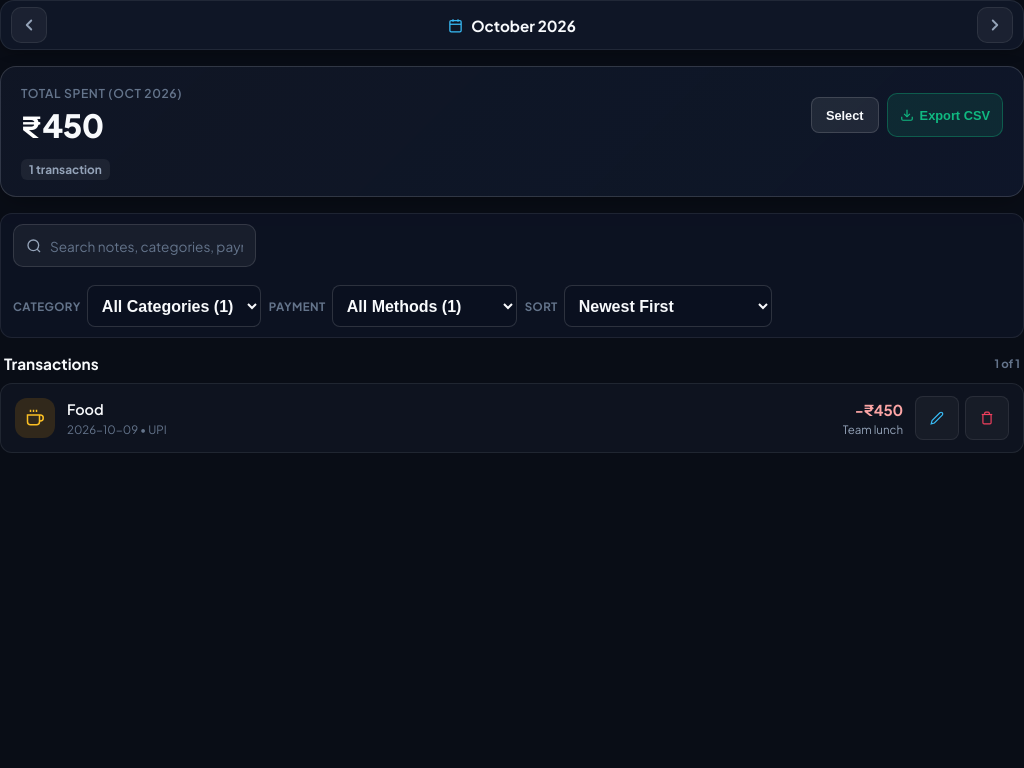
Test case: ExpensesView delete confirmation behavior › displays error message and preserves modal if deletion fails
This screenshot has width=1024, height=768.
Note: Open modal
Step 1. Click the button with class "delete" → coordinates (987, 418), box [965,396,1009,440]
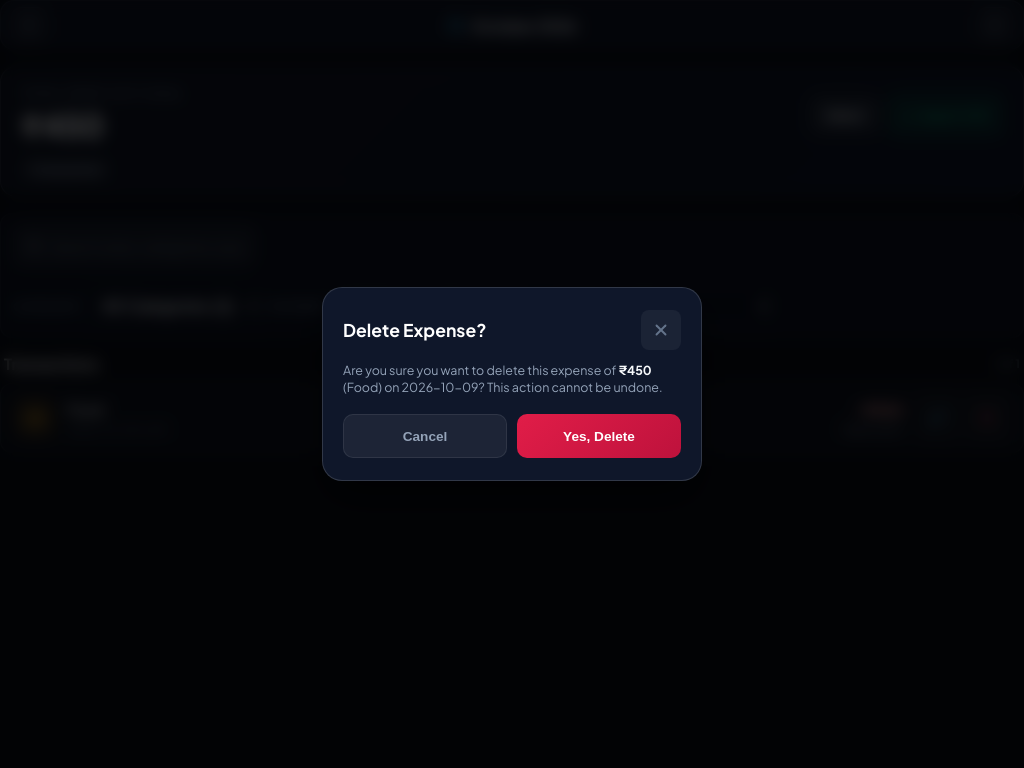
Step 2. Click the button with class "btn-modal-delete" → coordinates (599, 436), box [517,414,681,458]
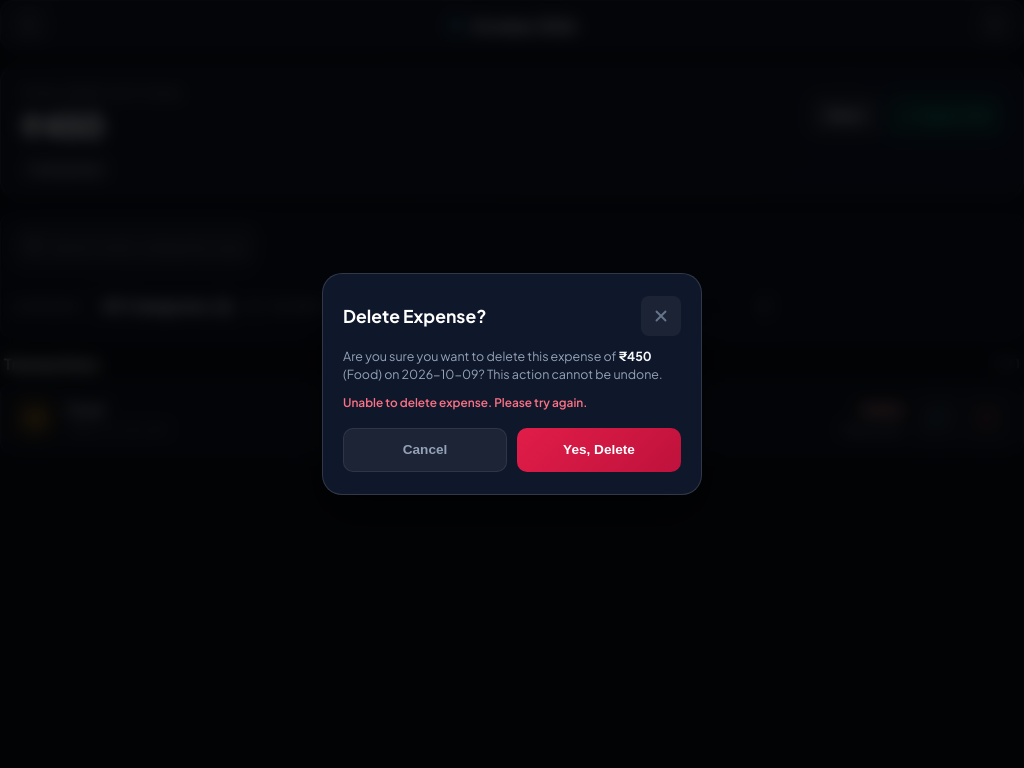
Check: the element with class "modal-backdrop" is shown
Check: the message with class "modal-error-text" reads "Unable to delete expense. Please try again.", box [343,395,587,410]
